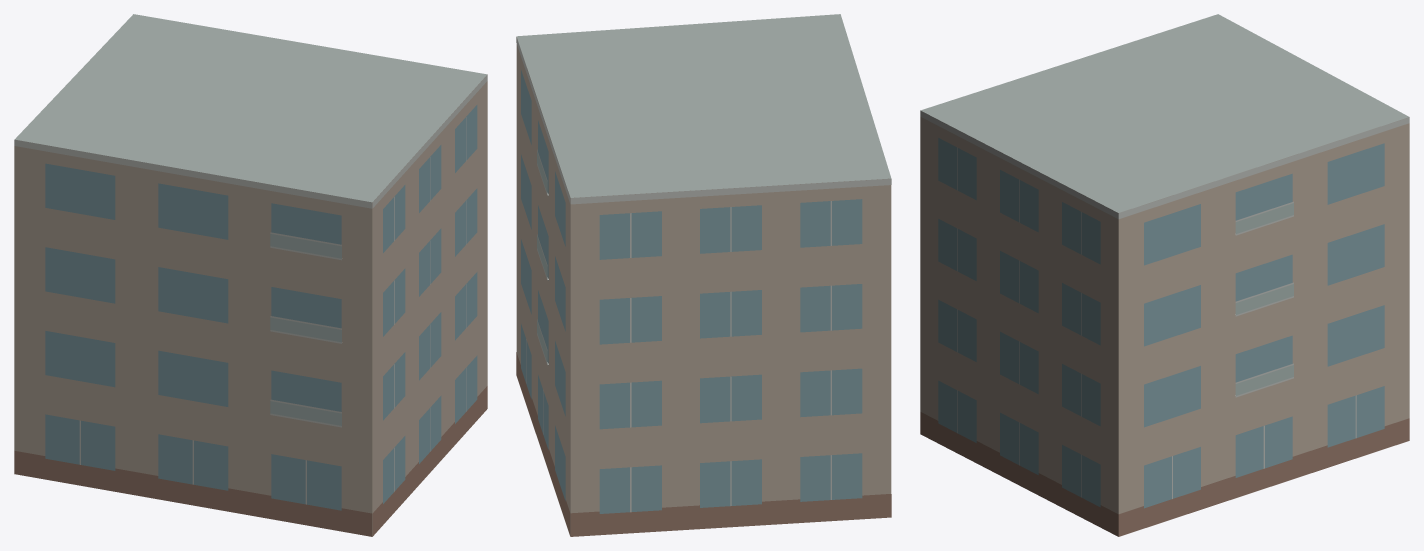
The model's file is survey-upis-33020456.glb.
The picture shows the model from 3 angles, left to right: view 1: azimuth 30°, elevation 25°; view 2: azimuth 150°, elevation 25°; view 3: azimuth 270°, elevation 25°; orthographic projection. The views are drawn at different scales.
Parts seen in each view (by area): view 1: survey-upis-33020456.tmp; view 2: survey-upis-33020456.tmp; view 3: survey-upis-33020456.tmp.
Boxes of the visible parts, bbox=[...] form: survey-upis-33020456.tmp: bbox=[14, 14, 487, 536]; survey-upis-33020456.tmp: bbox=[516, 14, 891, 536]; survey-upis-33020456.tmp: bbox=[920, 14, 1409, 536].
Size of the model in its own units: 16.89 by 12.8 by 17.54.
